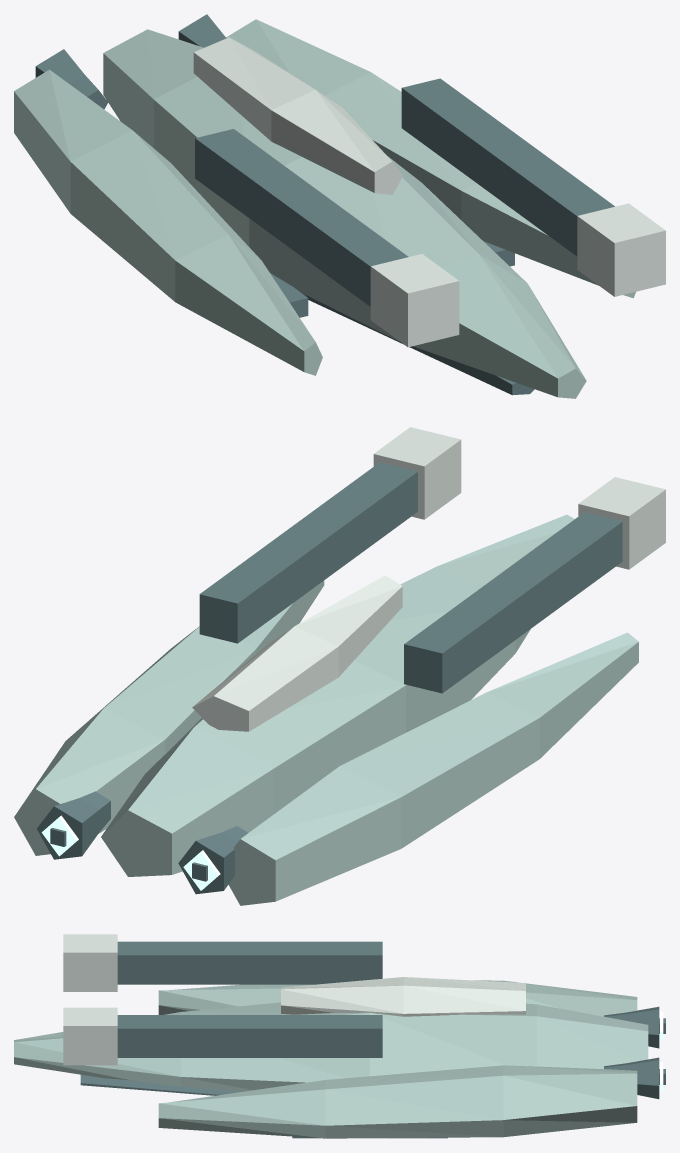
The picture shows the model from 3 angles, top to bottom: view 1: azimuth 30°, elevation 25°; view 2: azimuth 150°, elevation 25°; view 3: azimuth 270°, elevation 25°; orthographic projection. The views are drawn at different scales.
Size of the model in its own units: 11.57 by 4.92 by 24.1.
